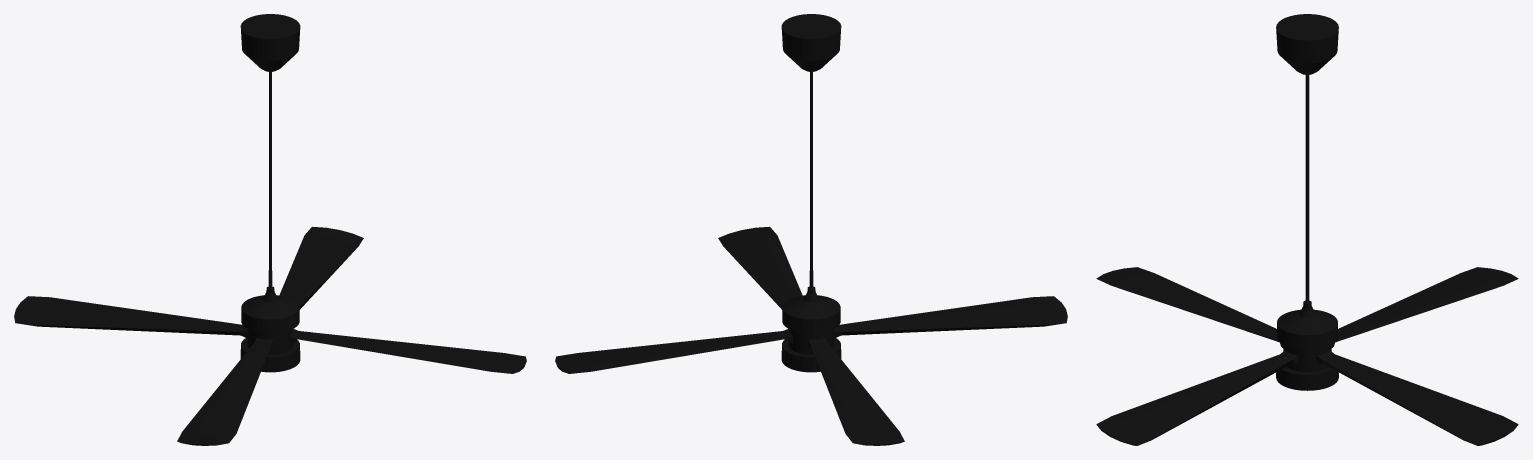
The model's file is CeilingFan.fbx.
3 views of the same model, side by side, from view 1: azimuth 30°, elevation 25°; view 2: azimuth 150°, elevation 25°; view 3: azimuth 270°, elevation 25° (orthographic). The views are drawn at different scales.
Visible parts, largest first — view 1: CeilingFan, CeilingFanKeeper; view 2: CeilingFan, CeilingFanKeeper; view 3: CeilingFan, CeilingFanKeeper.
Boxes of the visible parts, box(x1,y1,x2,y2) form: CeilingFan: box(14, 226, 526, 445); CeilingFanKeeper: box(240, 14, 300, 372); CeilingFan: box(555, 226, 1067, 445); CeilingFanKeeper: box(781, 14, 841, 372); CeilingFan: box(1096, 267, 1518, 445); CeilingFanKeeper: box(1276, 14, 1338, 390).
Bounding box in the file's own units: 220 × 220 × 201.
